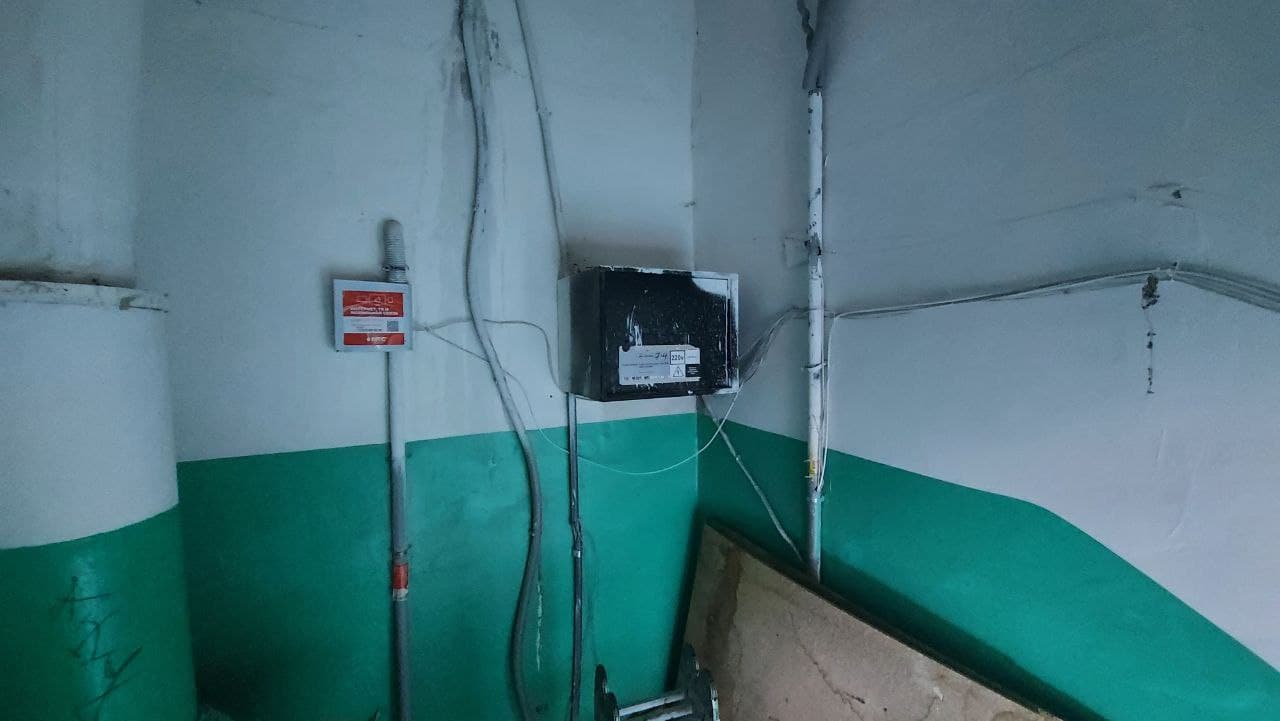shta-9m: (551, 261, 741, 407)
